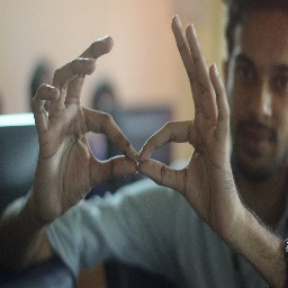B: (57, 78, 215, 202)
